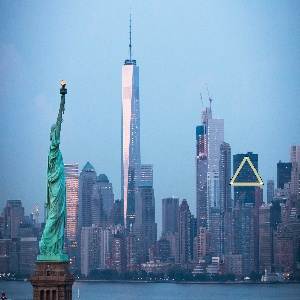triangle: (225, 154, 268, 189)
